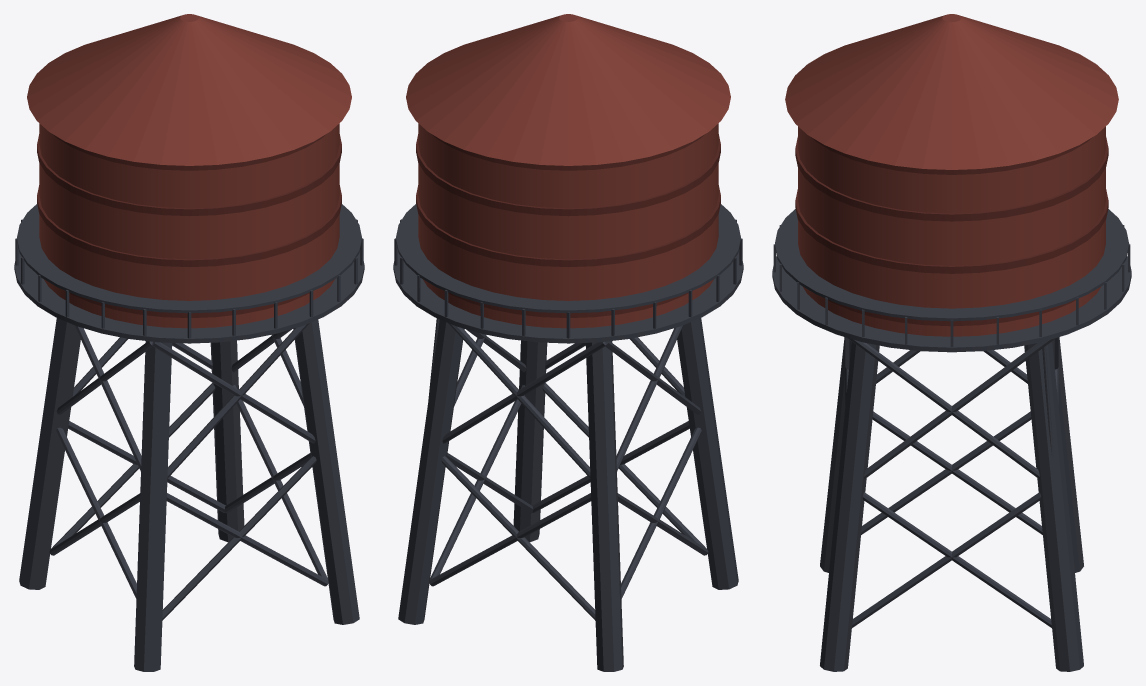
Rendered from water-tower.glb.
The picture shows the model from 3 angles, left to right: view 1: azimuth 30°, elevation 25°; view 2: azimuth 150°, elevation 25°; view 3: azimuth 270°, elevation 25°; orthographic projection. The views are drawn at different scales.
Visible parts, largest first — view 1: part-tank-red, part-leg-steel, part-tank-band; view 2: part-tank-red, part-leg-steel, part-tank-band; view 3: part-tank-red, part-leg-steel, part-tank-band.
Part boxes in pixels (bbox=[...]): part-tank-red: bbox=[27, 14, 351, 328]; part-leg-steel: bbox=[14, 204, 364, 671]; part-tank-band: bbox=[37, 134, 341, 317]; part-tank-red: bbox=[406, 14, 730, 328]; part-leg-steel: bbox=[393, 204, 743, 671]; part-tank-band: bbox=[416, 134, 720, 317]; part-tank-red: bbox=[785, 14, 1118, 336]; part-leg-steel: bbox=[772, 209, 1131, 671]; part-tank-band: bbox=[795, 137, 1108, 326].
Size of the model in its own units: 56 by 103 by 56.
